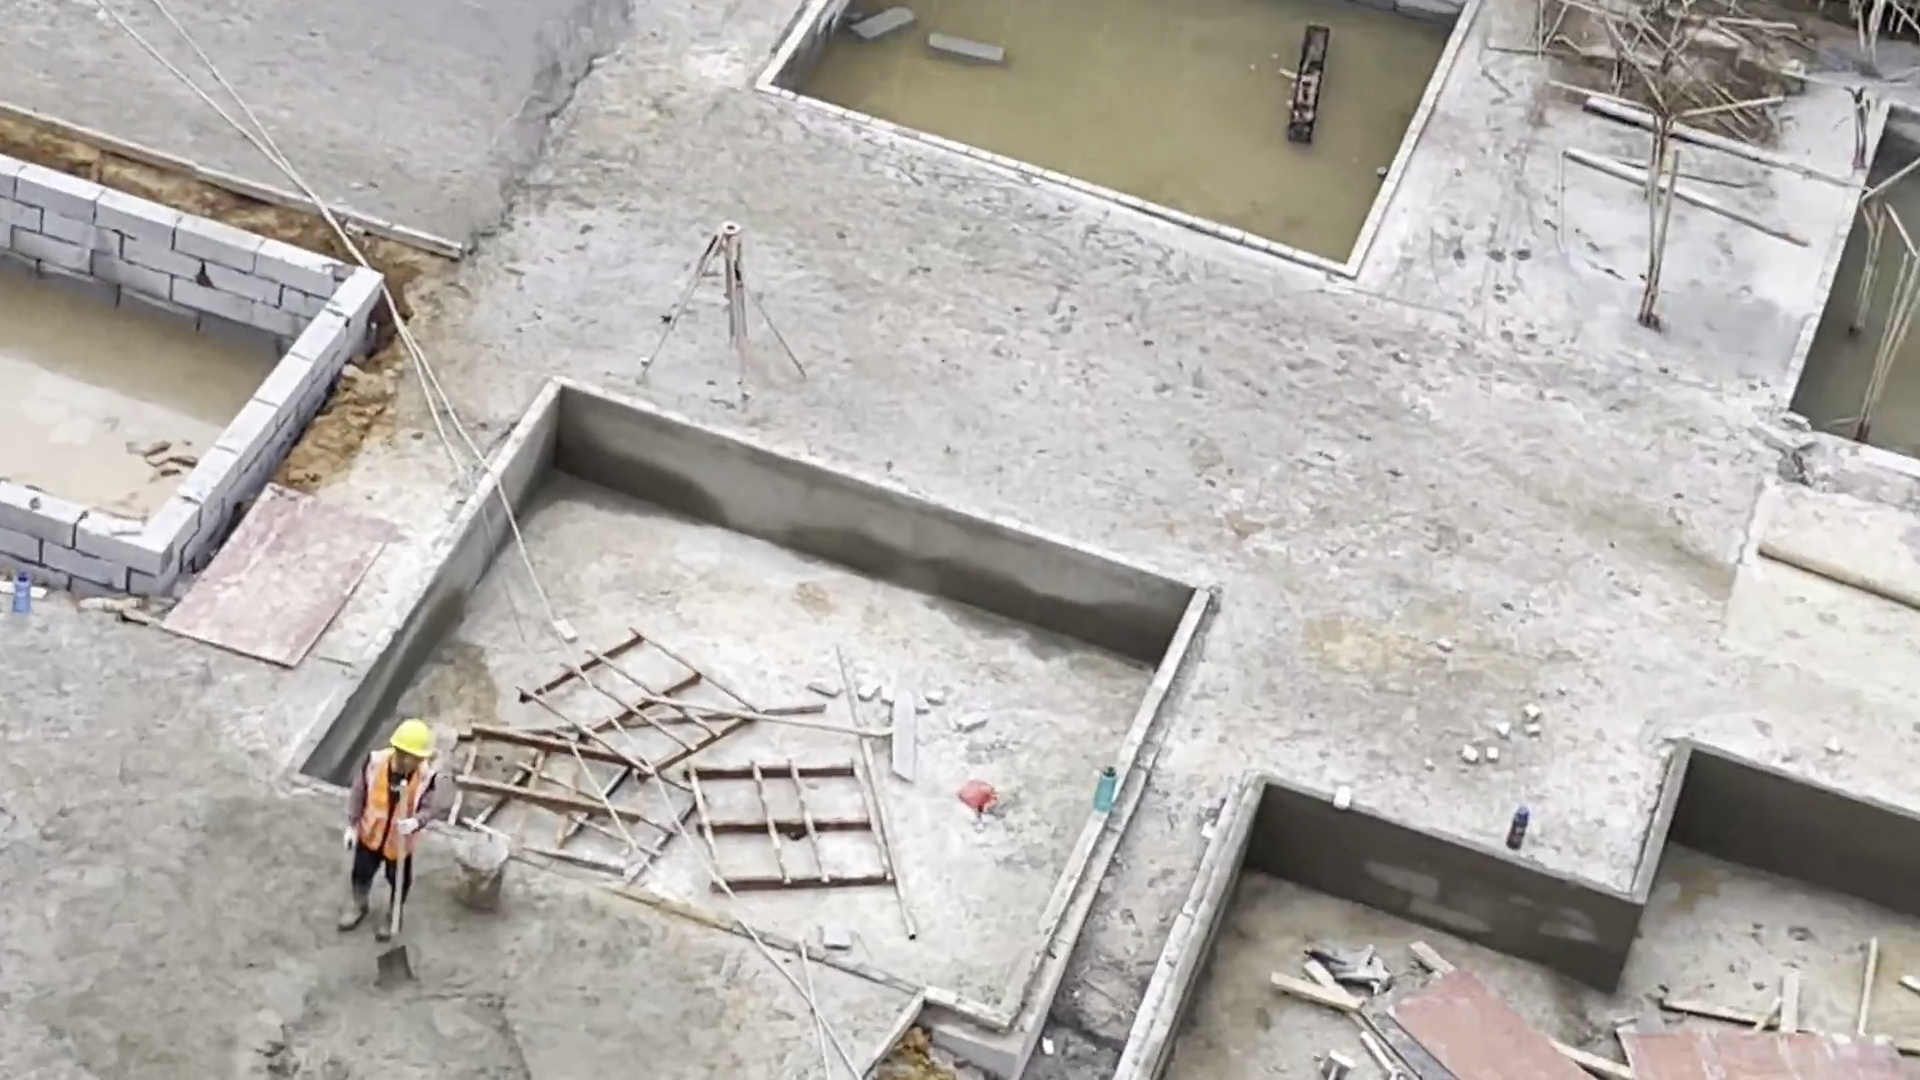helmet: (390, 721, 435, 761)
person: (331, 714, 448, 950)
vest: (362, 746, 429, 870)
